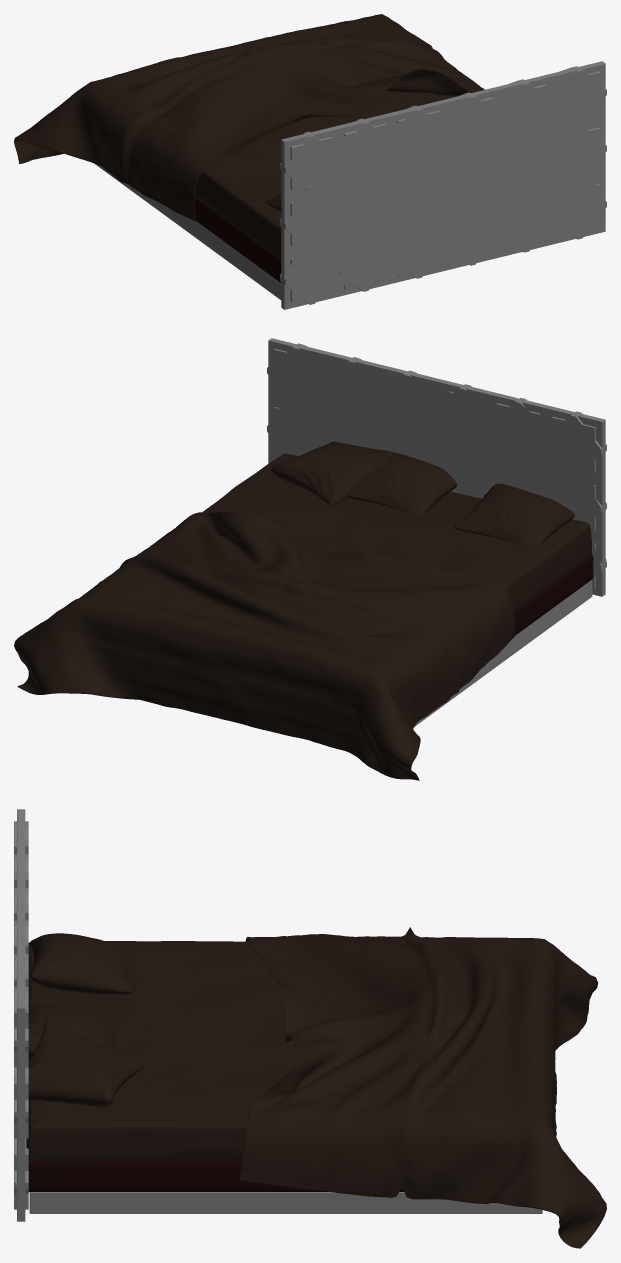
The model's file is FBX bed.FBX.
3 renders of one model, top to bottom at view 1: azimuth 30°, elevation 25°; view 2: azimuth 150°, elevation 25°; view 3: azimuth 270°, elevation 25°, orthographic. The views are drawn at different scales.
Parts seen in each view (by area): view 1: Layer:3d w 001, Plane002, mattress, box, under mattress; view 2: Plane002, Layer:3d w 001, mattress, pillows, box, under mattress; view 3: Plane002, mattress, pillows, box, under mattress, Layer:3d w 001.
Boxes of the visible parts, box(x1,y1,x2,y2) form: Layer:3d w 001: box(280, 61, 606, 309); Plane002: box(14, 14, 484, 221); mattress: box(194, 91, 457, 260); box: box(94, 163, 281, 299); under mattress: box(194, 196, 281, 283); Plane002: box(14, 511, 515, 780); Layer:3d w 001: box(267, 338, 606, 596); mattress: box(202, 453, 591, 611); pillows: box(271, 441, 574, 547); box: box(414, 580, 592, 726); under mattress: box(514, 554, 593, 635); Plane002: box(238, 927, 606, 1248); mattress: box(26, 941, 296, 1162); pillows: box(28, 933, 143, 1107); box: box(29, 1192, 542, 1213); under mattress: box(28, 1161, 403, 1192); Layer:3d w 001: box(14, 809, 28, 1221).
Bounding box in the file's own units: 2419 × 1036 × 2453.
